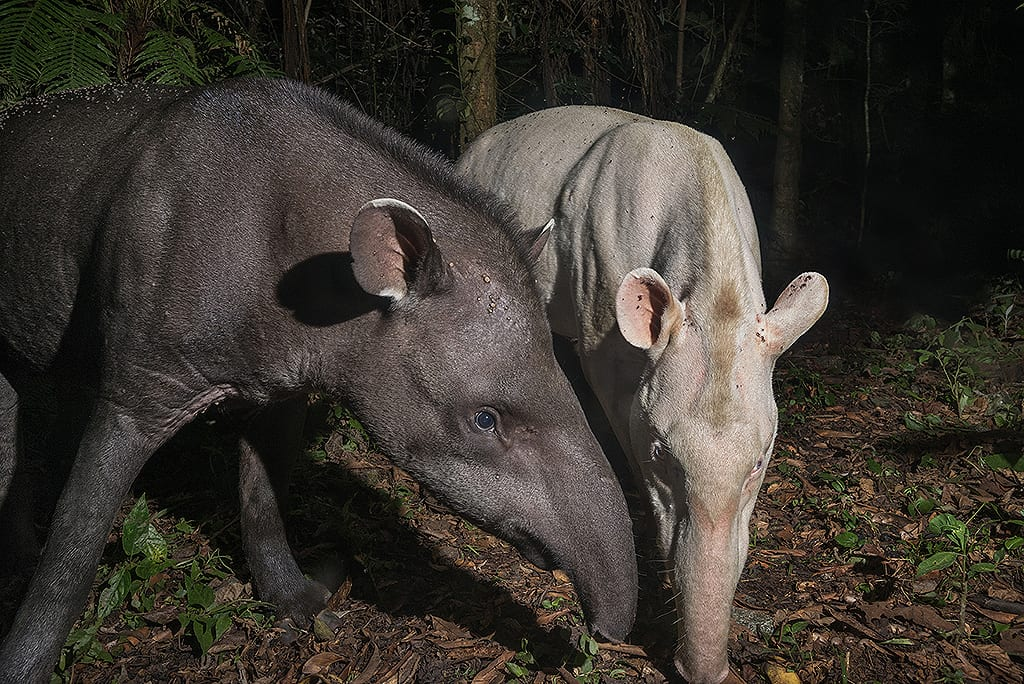Anta: (24, 59, 644, 668), (467, 85, 840, 679)
